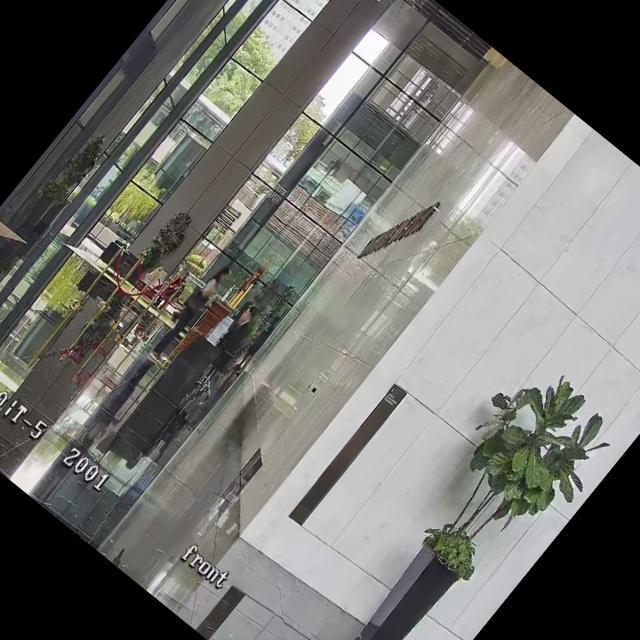person: (145, 258, 236, 364), (206, 302, 266, 370), (227, 312, 286, 381), (149, 266, 196, 318)
